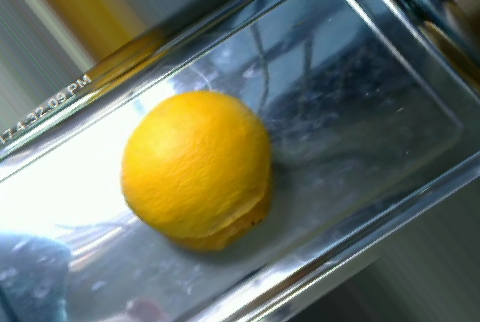Orange: (119, 90, 271, 239)
